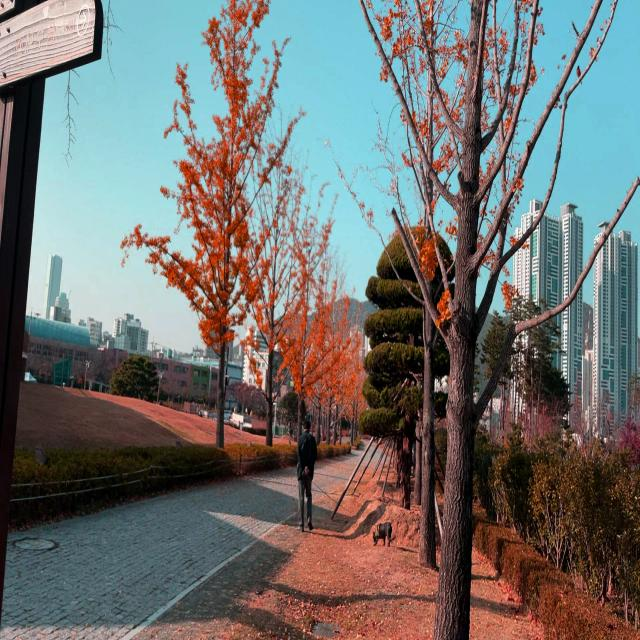Leashed_Dog: (308, 476, 394, 547)
